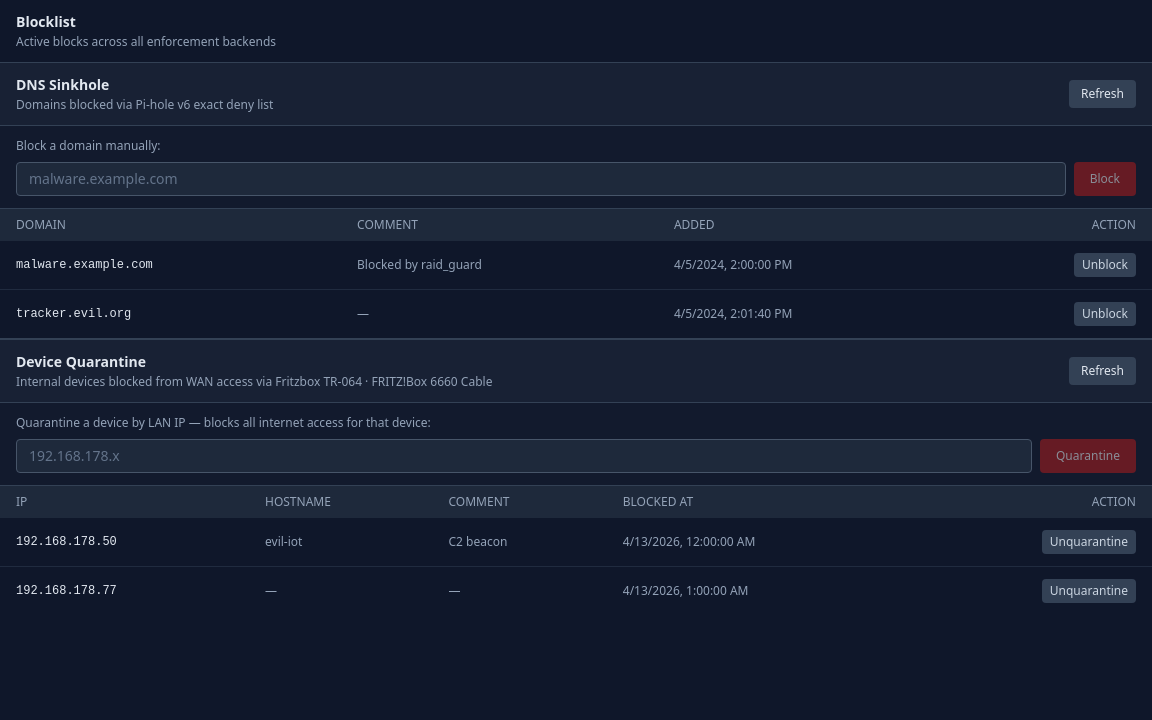
Test case: BlocklistPage — DNS Sinkhole — manual block › shows error when domain block fails
Expected: the text "malware.example.com" is shown, [0,241,341,290]
Type "evil.com" into the field named "domain to block" at (541, 179), box [16,162,1066,196]
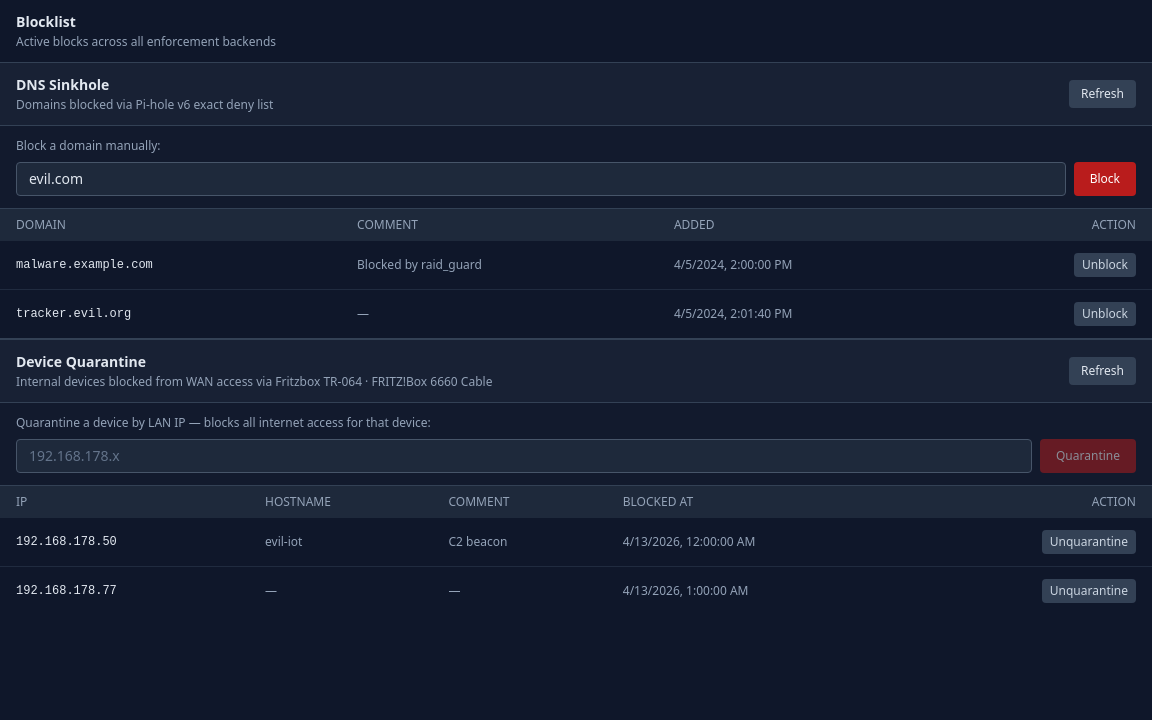
Click the button "Block" at (1105, 179), box [1074,162,1136,196]
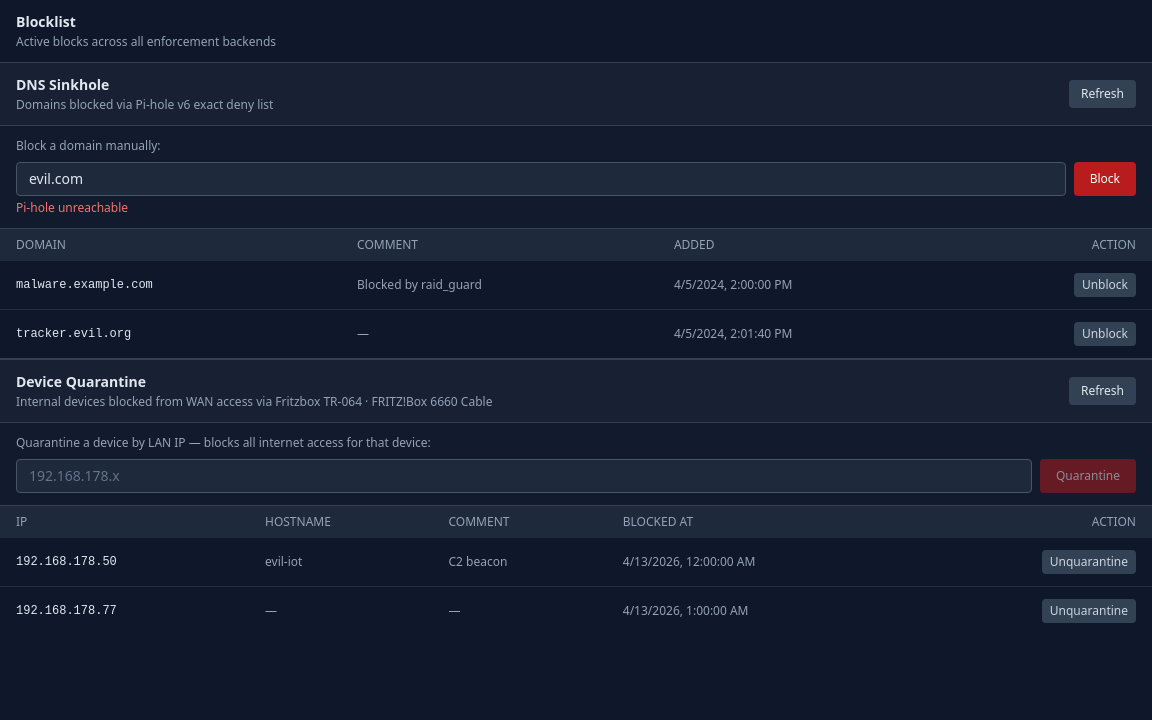
Now the text "Pi-hole unreachable" is shown, box [16,199,128,216]
